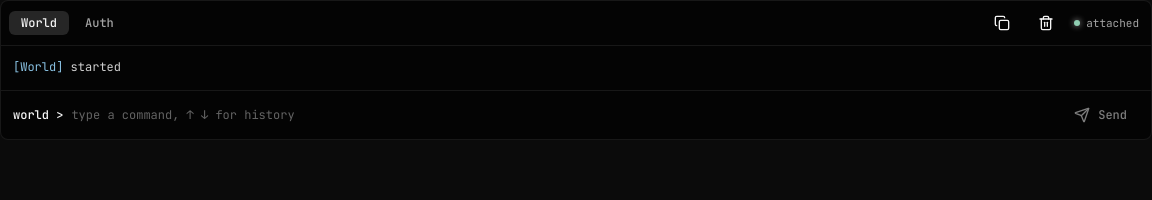
Scenario: ConsoleSection › sends a command, clears the input and shows the echoed command
This screenshot has width=1152, height=200.
In the field named "world command": [563, 114] box [71,106,1054,122], type "server info"
Then press Enter
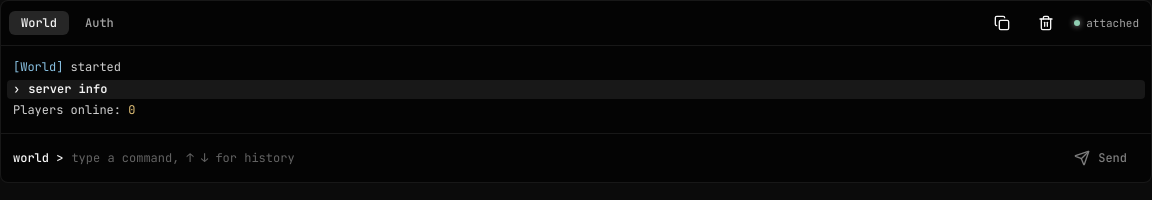
Expected: the field named "world command" is empty, [71,150,1054,166]
Now the text "server info" is shown, box [28,80,107,99]
